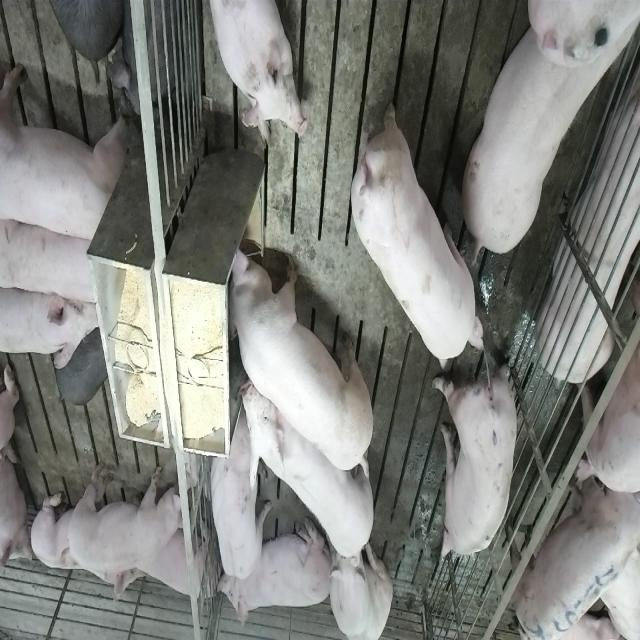Feeding: (225, 250, 376, 482)
Lateral_lying: (536, 78, 640, 389)
Sitting: (323, 539, 394, 640)
Standing: (350, 89, 490, 371), (237, 380, 381, 566), (502, 468, 640, 638), (0, 59, 126, 245), (432, 349, 518, 572), (59, 456, 190, 572), (0, 219, 115, 319), (0, 295, 116, 363)
Sternal_lying: (462, 0, 638, 262), (211, 0, 310, 148), (220, 504, 338, 627), (28, 485, 140, 605), (136, 506, 220, 610), (0, 437, 34, 578)
